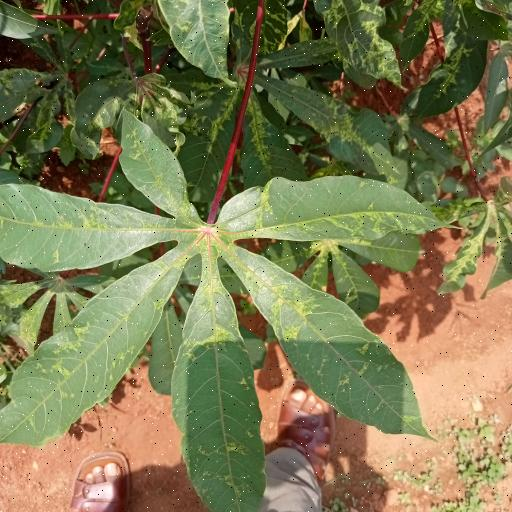Cassava_Healthy: (1, 108, 433, 512)
